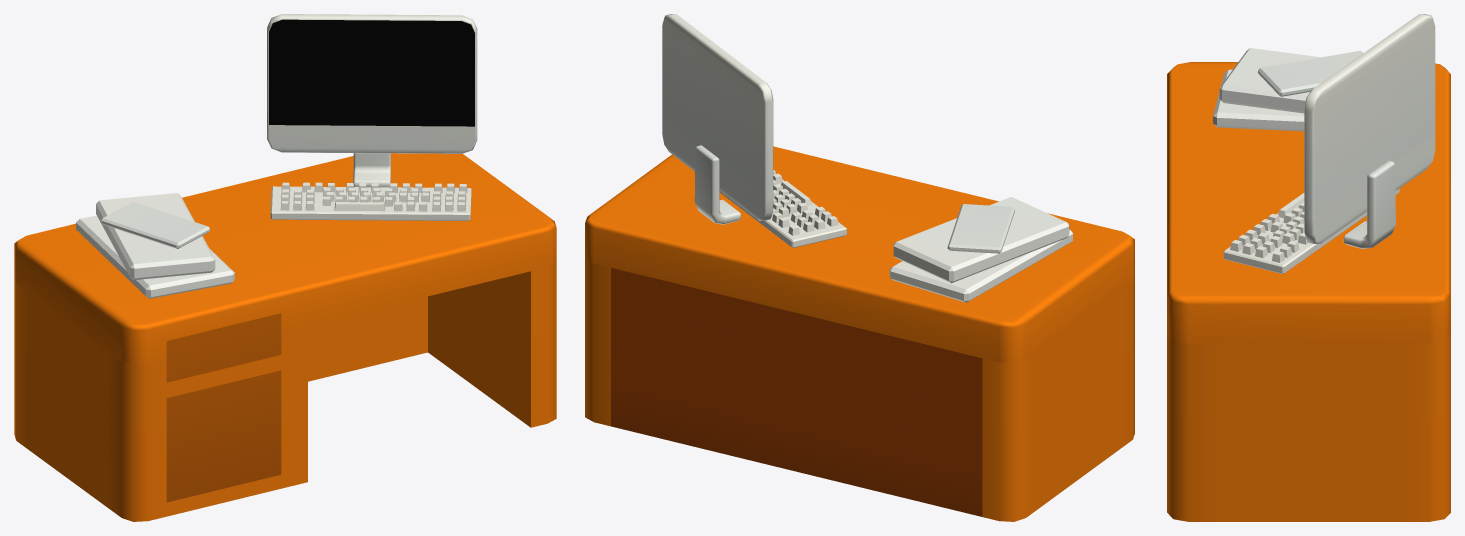
Rendered from Table_HR.fbx.
The picture shows the model from 3 angles, left to right: view 1: azimuth 30°, elevation 25°; view 2: azimuth 150°, elevation 25°; view 3: azimuth 270°, elevation 25°; orthographic projection. The views are drawn at different scales.
Visible parts, largest first — view 1: Table_HR; view 2: Table_HR; view 3: Table_HR.
Part boxes in pixels (box(x1,y1,x2,y2)): Table_HR: box(14, 14, 556, 521); Table_HR: box(585, 14, 1134, 521); Table_HR: box(1167, 14, 1450, 521).
Bounding box in the file's own units: 200 × 161 × 101.
